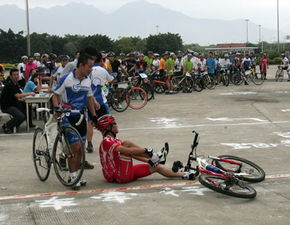10+: (2, 45, 290, 189)
down: (97, 110, 197, 186)
